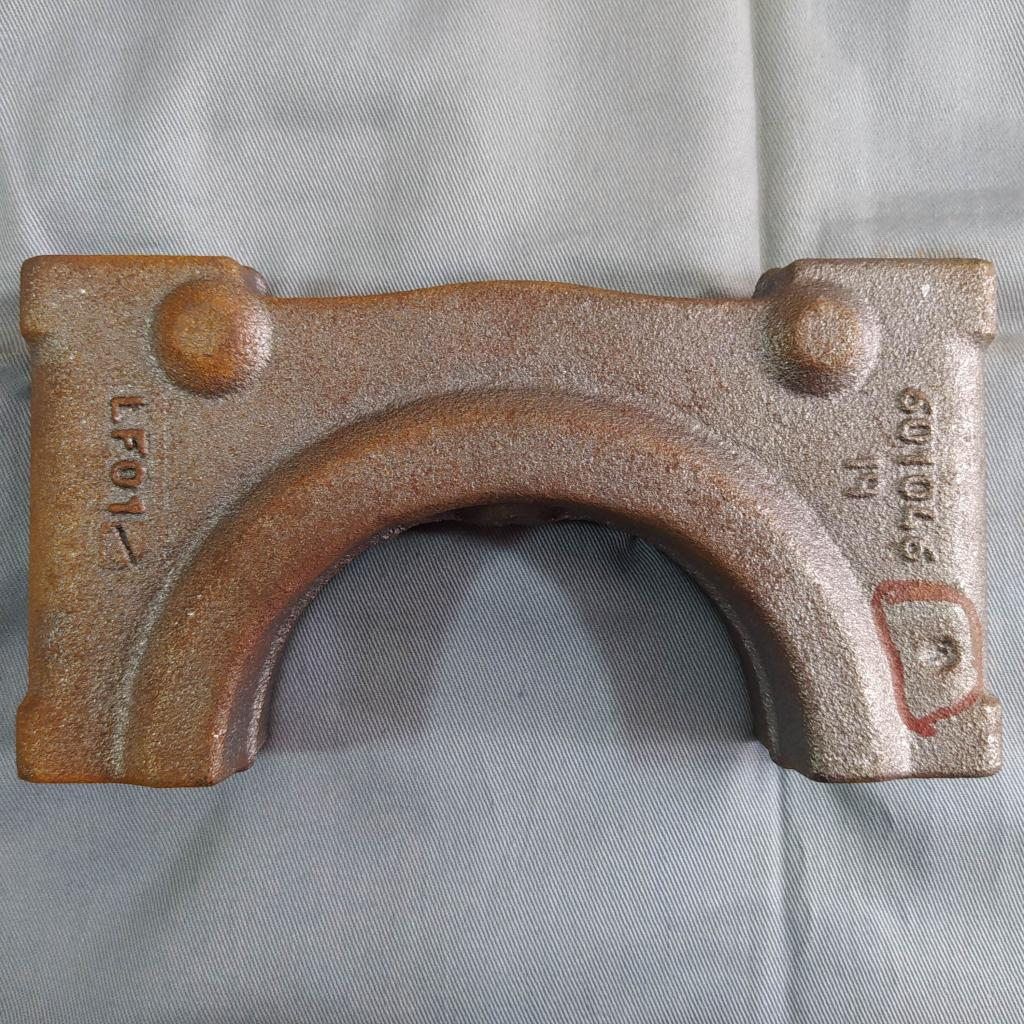buraco: (916, 636, 966, 687)
